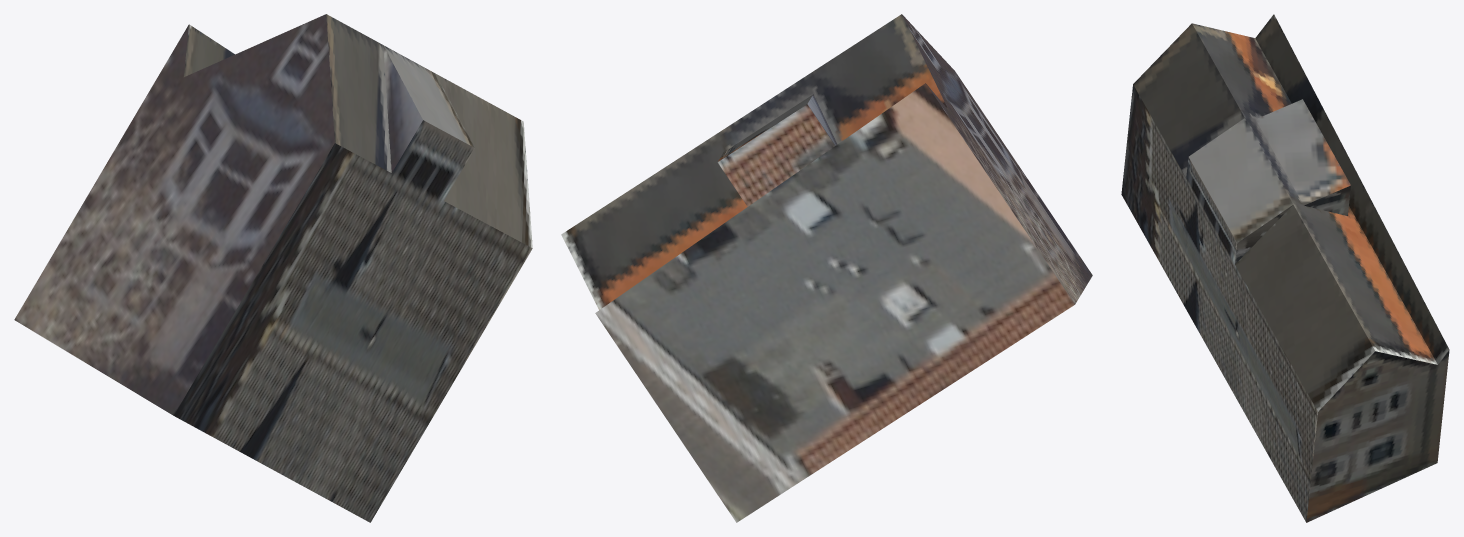
The picture shows the model from 3 angles, left to right: view 1: azimuth 30°, elevation 25°; view 2: azimuth 150°, elevation 25°; view 3: azimuth 270°, elevation 25°; orthographic projection. The views are drawn at different scales.
Parts seen in each view (by area): view 1: BAG_0599100000656924 (×3); view 2: BAG_0599100000656924 (×2); view 3: BAG_0599100000656924 (×4).
Boxes of the visible parts, x1=… form: BAG_0599100000656924 (×3): x1=14, y1=14, x2=532, y2=522; BAG_0599100000656924 (×2): x1=561, y1=14, x2=1092, y2=522; BAG_0599100000656924 (×4): x1=1121, y1=14, x2=1449, y2=522.
Bounding box in the file's own units: 15.82 × 15.34 × 10.02.
4 materials, 4 textured.
